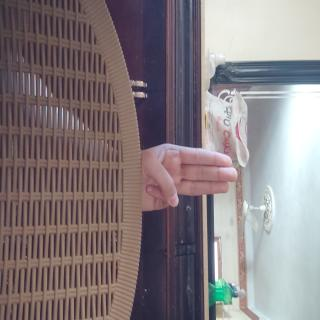THA: (101, 106, 162, 244)
